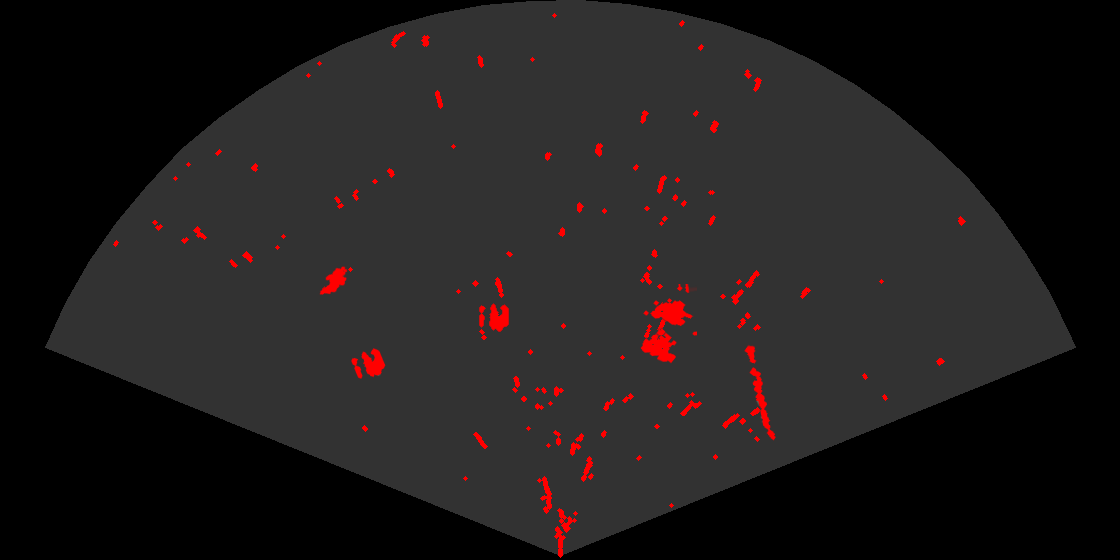AUV: (318, 265, 349, 297)
ball: (350, 347, 387, 380), (478, 302, 510, 333)
cage: (639, 284, 697, 365)
chain: (743, 343, 777, 442)
